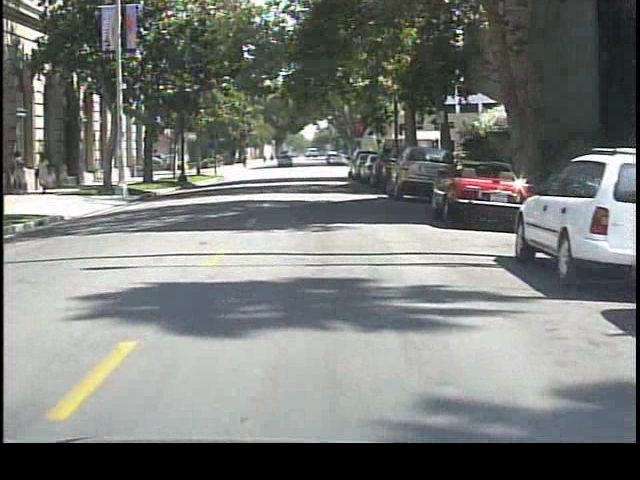person: (32, 152, 58, 196), (10, 146, 31, 194)
